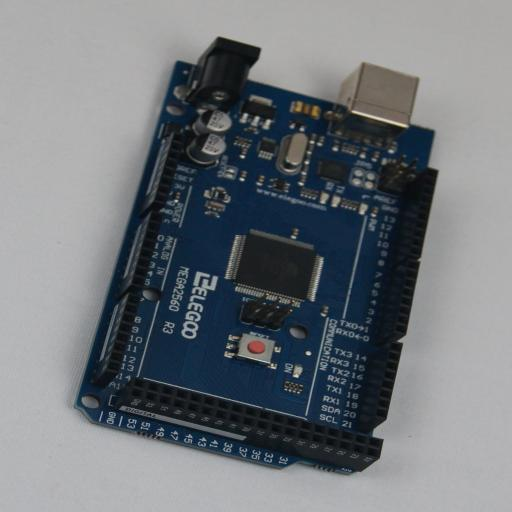Arduino Mega 2560 -Blue-: (73, 37, 438, 475)
